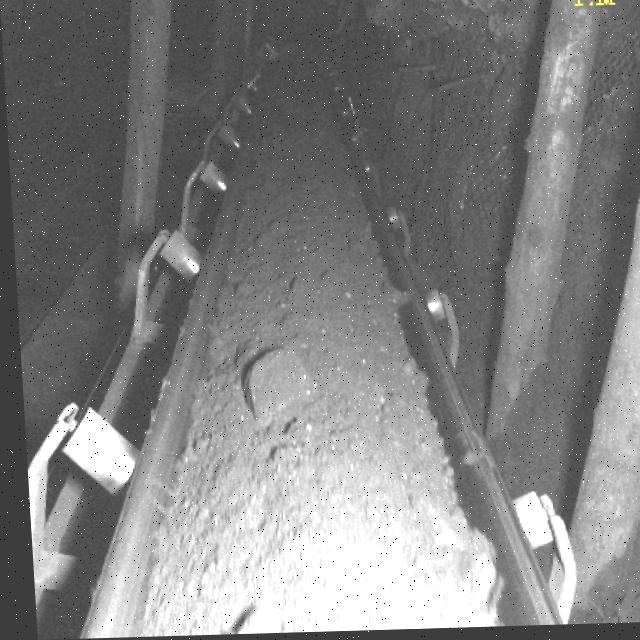large_sized_coal: (235, 352, 308, 423)
